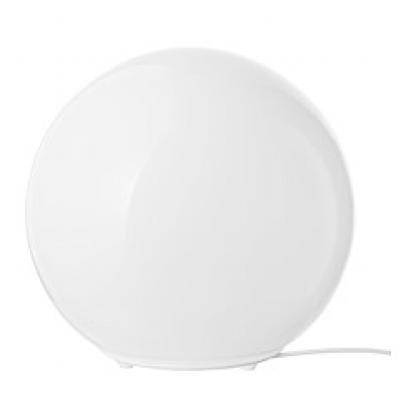Lamp: (18, 13, 361, 390)
